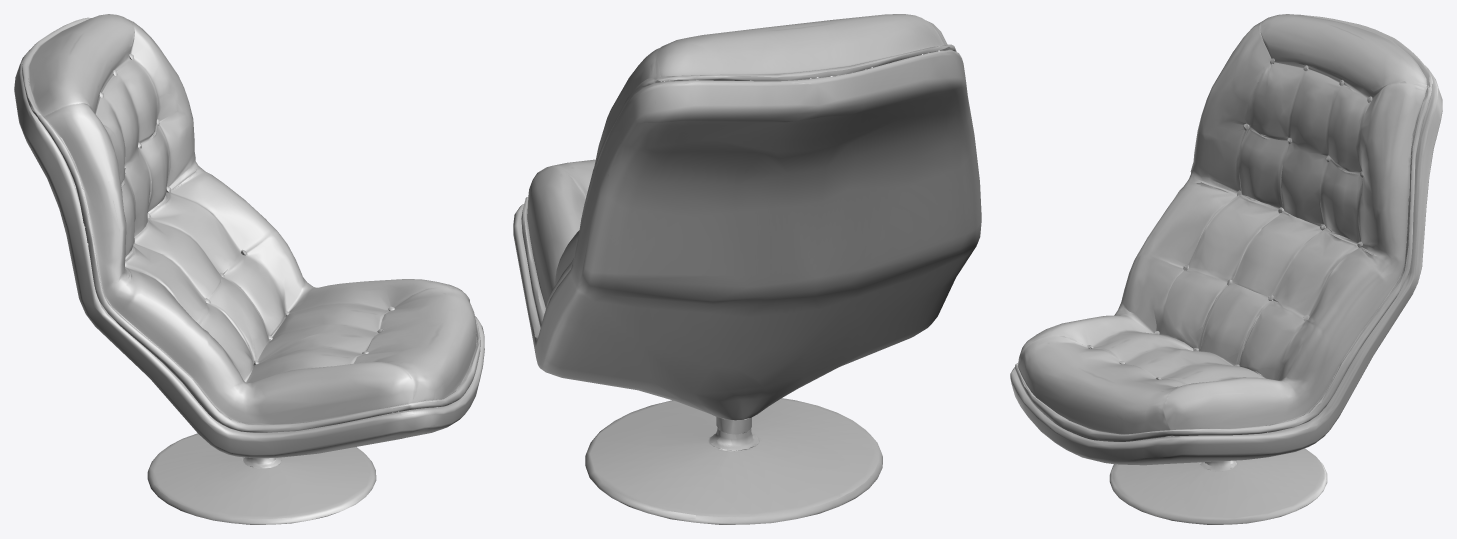
Rendered from chair_chair_376041f1-c35e-5012-9ff4-80ae964cde46.glb.
3 views of the same model, side by side, from view 1: azimuth 30°, elevation 25°; view 2: azimuth 150°, elevation 25°; view 3: azimuth 270°, elevation 25° (orthographic). The views are drawn at different scales.
Visible parts, largest first — view 1: raw_model.obj; view 2: raw_model.obj; view 3: raw_model.obj.
Part boxes in pixels (left/top/right/bottom): raw_model.obj: left=14, top=14, right=484, bottom=524; raw_model.obj: left=513, top=14, right=981, bottom=524; raw_model.obj: left=1010, top=14, right=1442, bottom=524.
Size of the model in its own units: 0.8865 by 0.8877 by 0.8865.
1 material, 1 textured.
